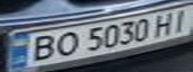0: (130, 16, 157, 43), (103, 21, 124, 50)
3: (118, 19, 139, 45)
5: (81, 25, 106, 52)
B: (21, 33, 60, 63)
H: (148, 10, 178, 37)
I: (166, 7, 193, 34)
O: (48, 29, 81, 58)
